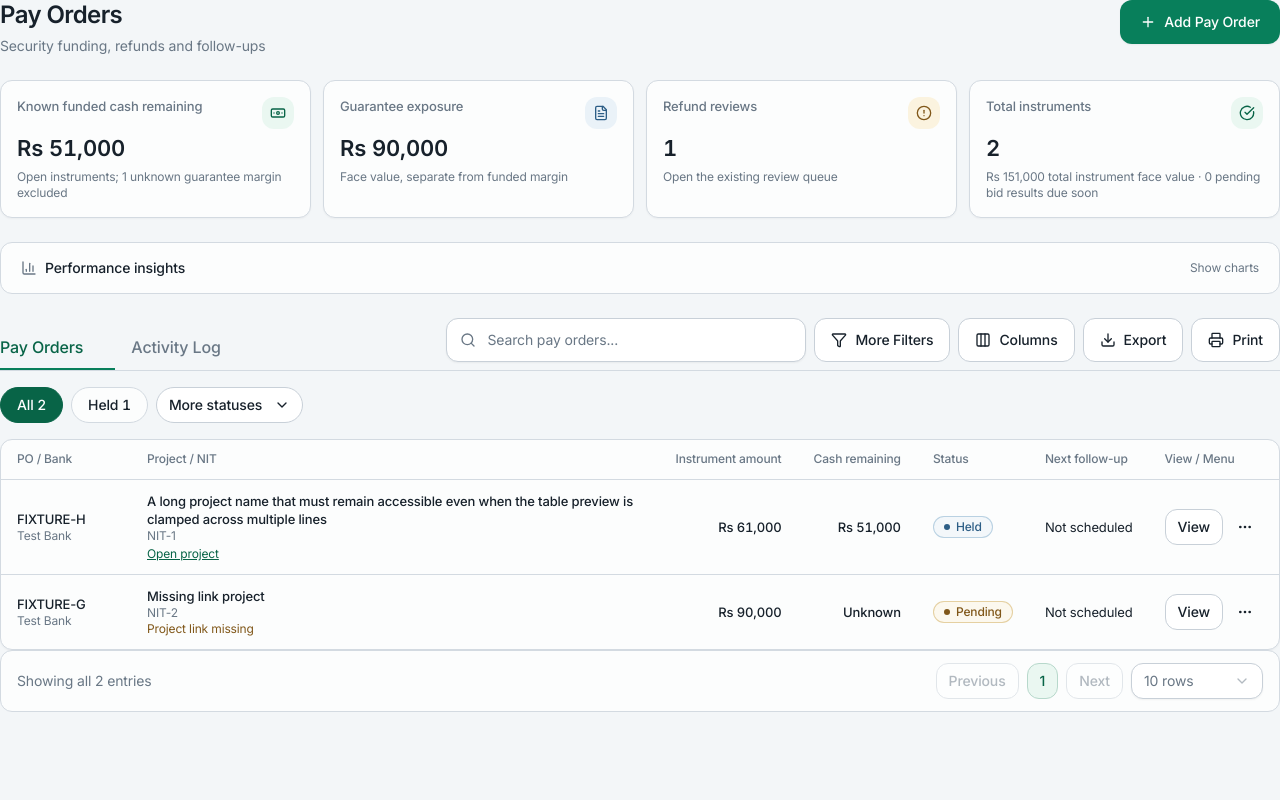
Test: pay order list with disposable records › keeps the form open with an inline error when saving fails
Click the button "Add Pay Order".
click(1200, 22)  # box x1=1120 y1=0 x2=1279 y2=44
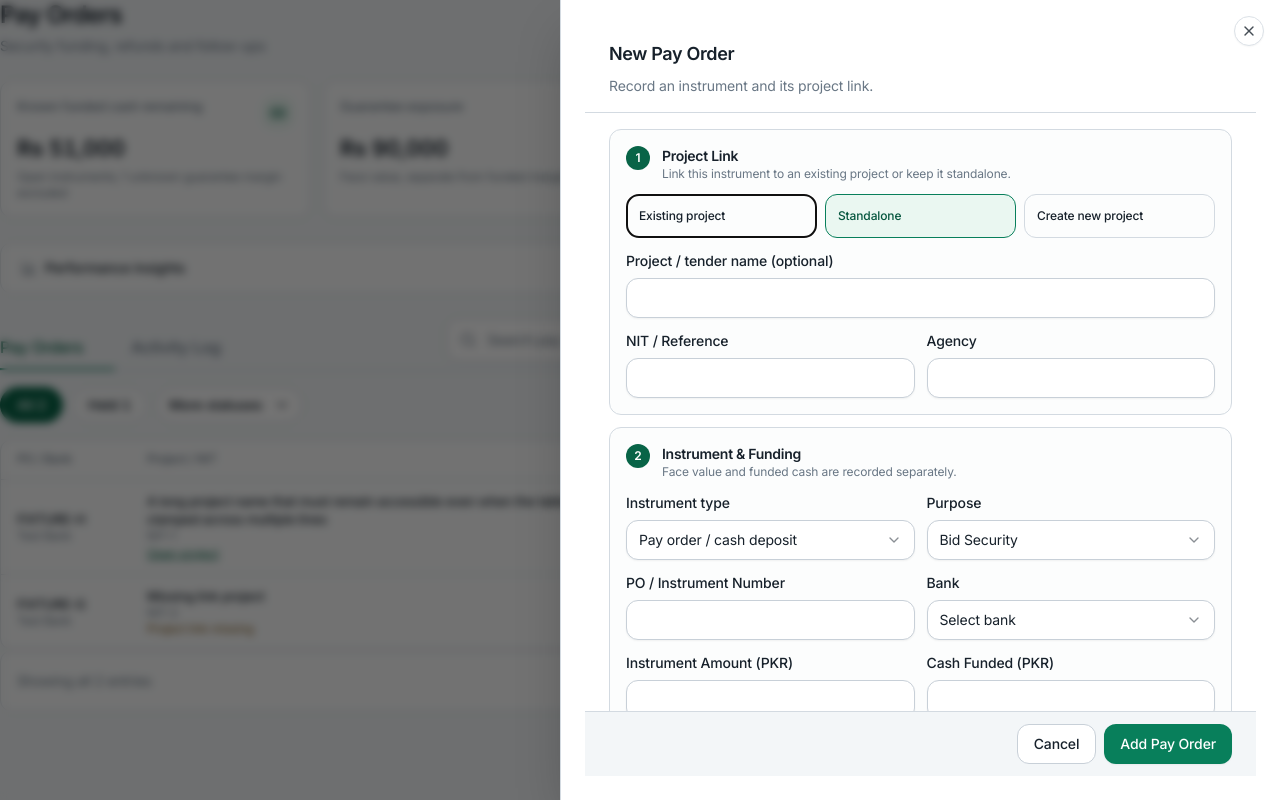
Type "FIXTURE-NEW" into the field labelled "PO / Instrument Number".
click(770, 620); type("FIXTURE-NEW")  # box x1=626 y1=600 x2=914 y2=640
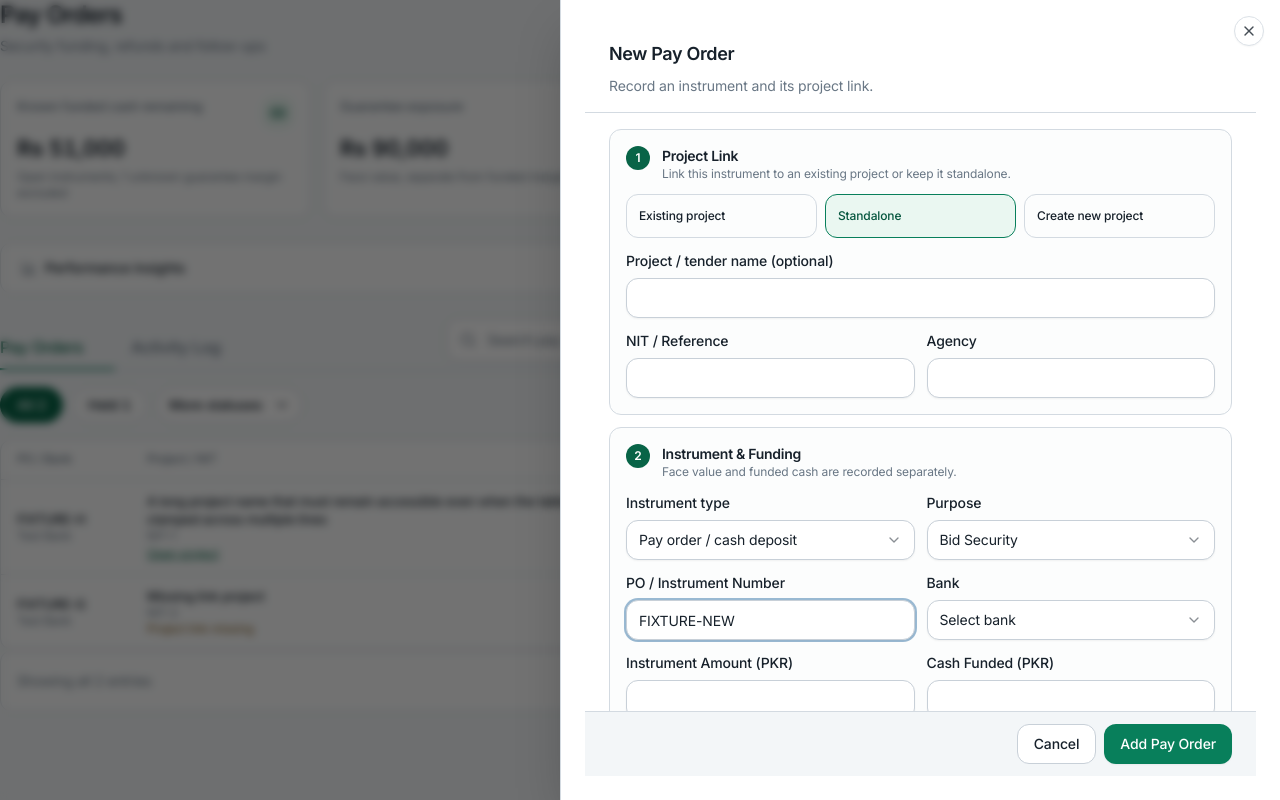
Type "500" into the number field labelled "Instrument Amount (PKR)".
click(770, 700); type("500")  # box x1=626 y1=680 x2=914 y2=720
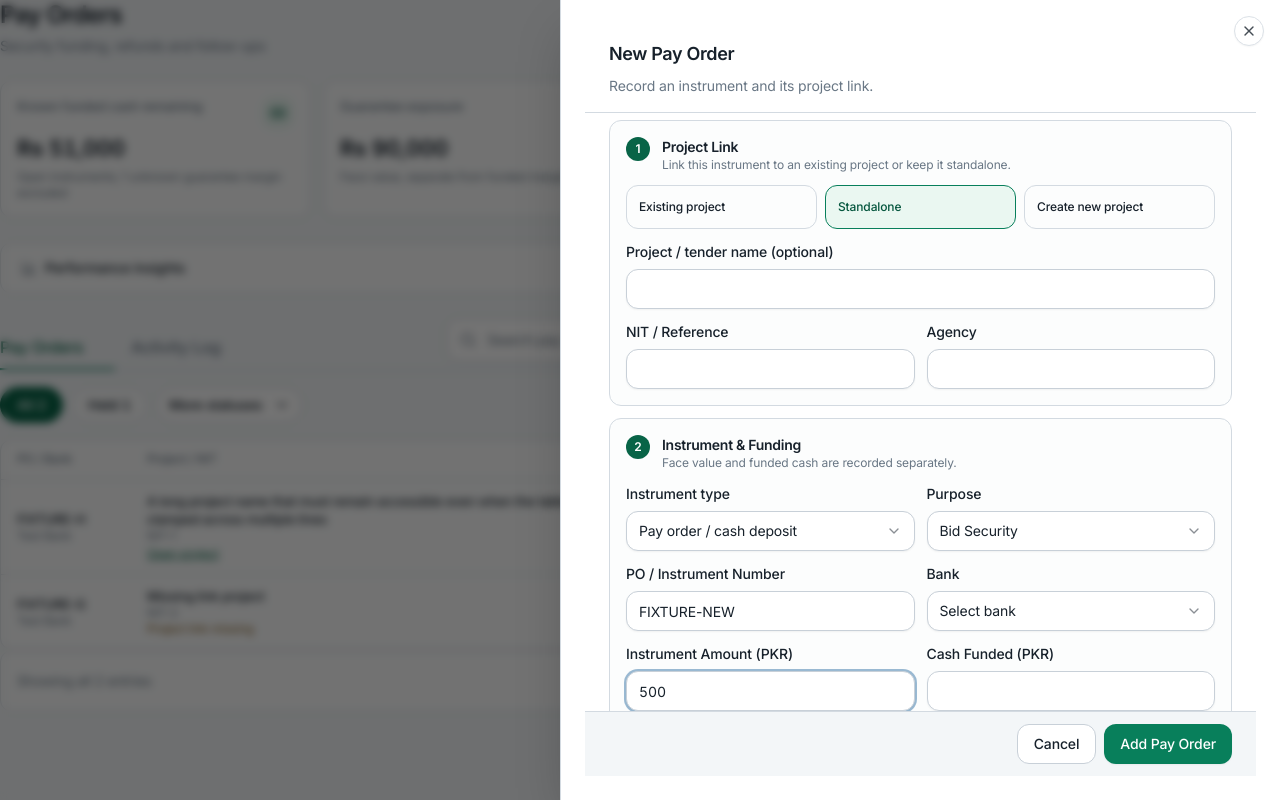
Click the button "Add Pay Order".
click(1168, 744)  # box x1=1104 y1=724 x2=1232 y2=764
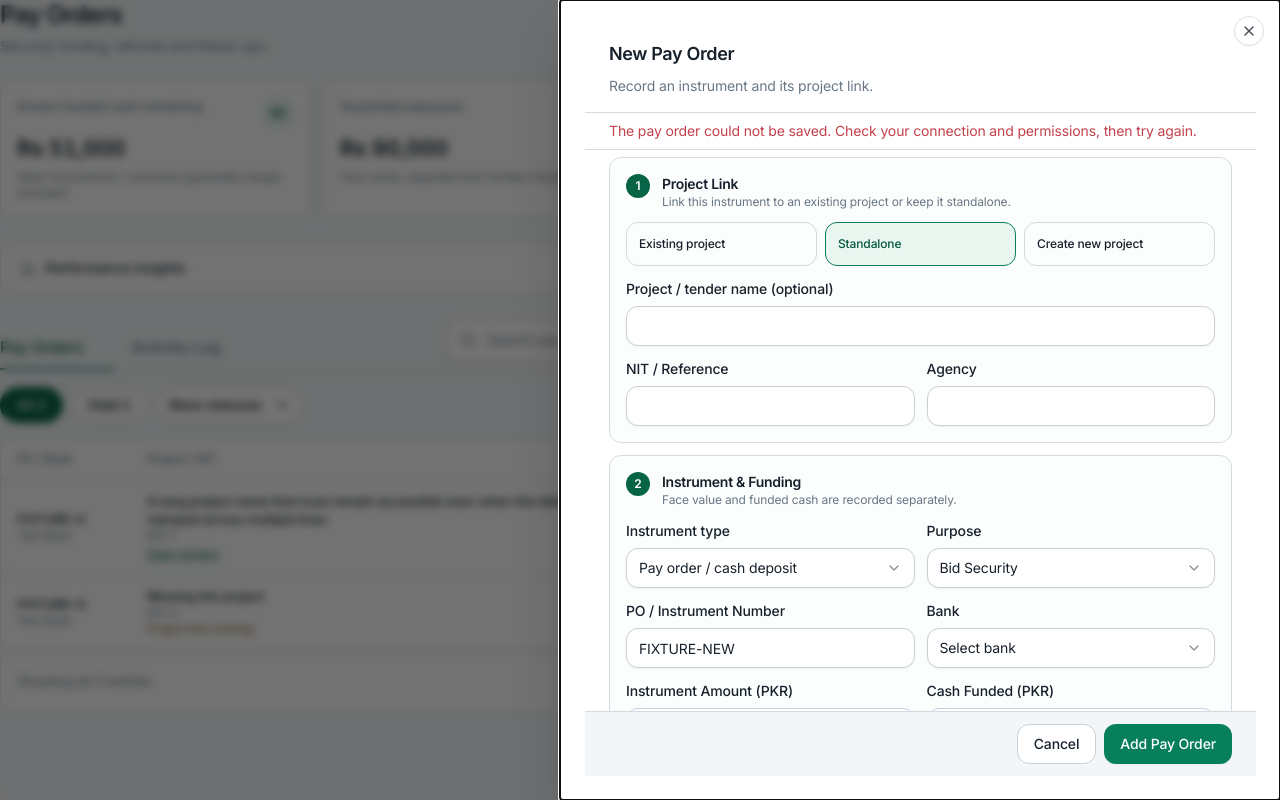
Check: the message shows "The pay order could not be saved", box x1=609 y1=122 x2=1197 y2=139
